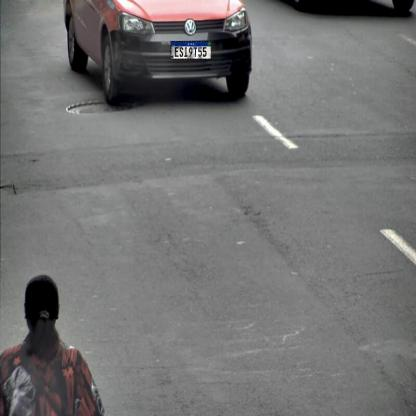PlacaM: (170, 41, 212, 60)
